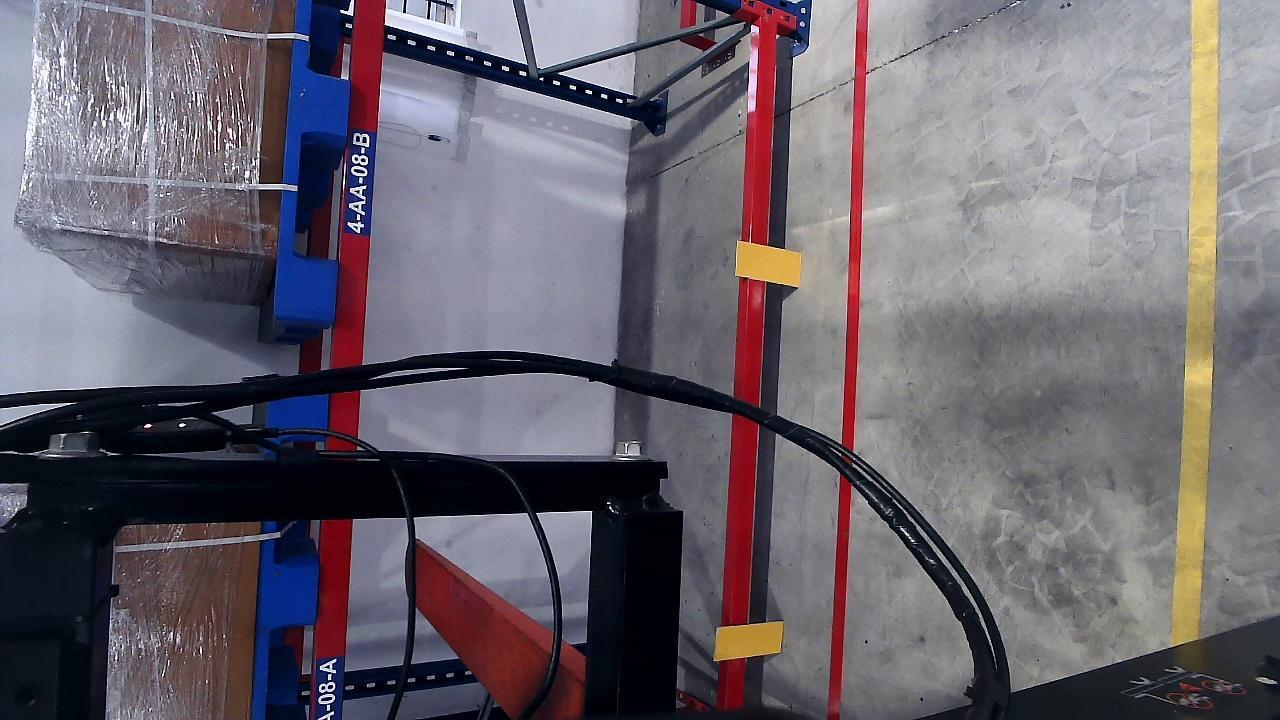red_line: (824, 0, 873, 718)
yellow_line: (1167, 0, 1219, 649)
